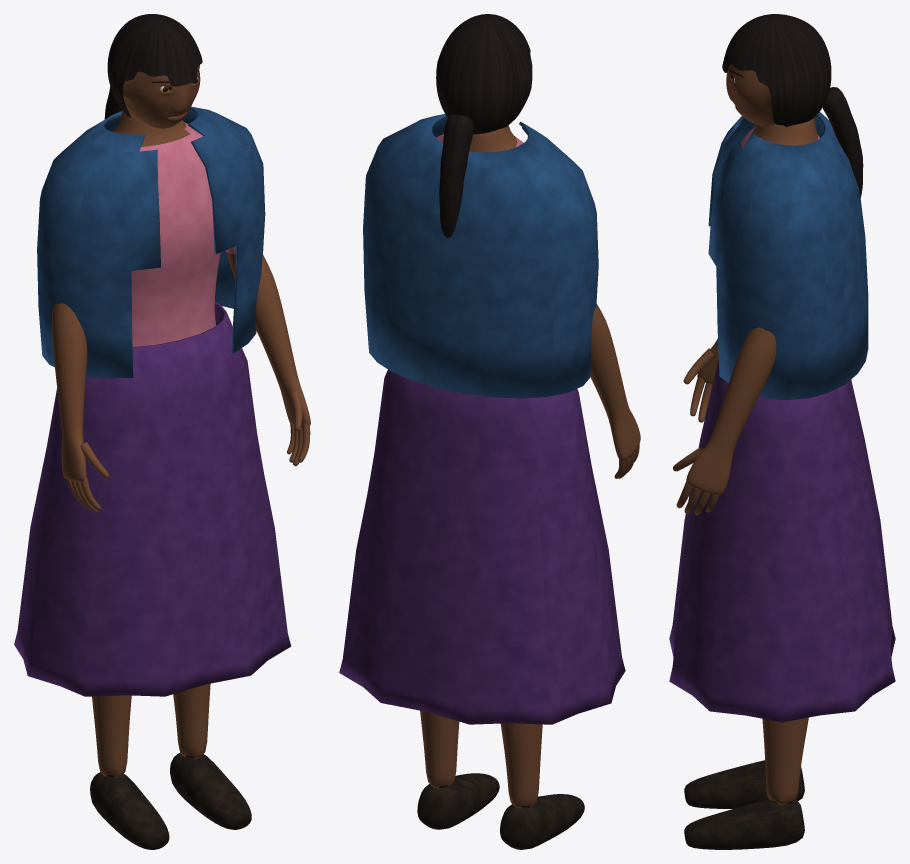
The model's file is persona_mujer_b.obj.
The picture shows the model from 3 angles, left to right: view 1: azimuth 30°, elevation 25°; view 2: azimuth 150°, elevation 25°; view 3: azimuth 270°, elevation 25°; orthographic projection. The views are drawn at different scales.
Visible parts, largest first — view 1: Falda, Rebozo, Torso, PiernaDer, PiernaIzq, Pelo, AntebrazoDer, AntebrazoIzq, Cabeza; view 2: Falda, Rebozo, Pelo, PiernaDer, PiernaIzq, AntebrazoDer, Torso; view 3: Falda, Rebozo, Pelo, PiernaIzq, AntebrazoIzq, PiernaDer, Cabeza, AntebrazoDer, Torso.
Part boxes in pixels (left/top/right/bottom): Falda: left=14, top=301, right=291, bottom=696; Rebozo: left=37, top=106, right=265, bottom=378; Torso: left=113, top=109, right=220, bottom=346; PiernaDer: left=90, top=695, right=169, bottom=849; PiernaIzq: left=170, top=683, right=251, bottom=829; Pelo: left=104, top=14, right=202, bottom=131; AntebrazoDer: left=52, top=303, right=108, bottom=513; AntebrazoIzq: left=231, top=255, right=310, bottom=466; Cabeza: left=122, top=66, right=200, bottom=128; Falda: left=339, top=369, right=625, bottom=724; Rebozo: left=363, top=114, right=598, bottom=398; Pelo: left=436, top=14, right=532, bottom=237; PiernaDer: left=500, top=723, right=584, bottom=849; PiernaIzq: left=417, top=710, right=499, bottom=829; AntebrazoDer: left=590, top=304, right=640, bottom=478; Torso: left=436, top=125, right=523, bottom=152; Falda: left=669, top=359, right=895, bottom=722; Rebozo: left=708, top=112, right=868, bottom=400; Pelo: left=722, top=14, right=863, bottom=197; PiernaIzq: left=684, top=717, right=808, bottom=849; AntebrazoIzq: left=673, top=327, right=776, bottom=514; PiernaDer: left=684, top=760, right=804, bottom=808; Cabeza: left=726, top=64, right=774, bottom=126; AntebrazoDer: left=683, top=338, right=718, bottom=422; Torso: left=740, top=118, right=819, bottom=147.
Size of the model in its own units: 0.5356 by 1.62 by 0.4115.
12 materials, 12 textured.
